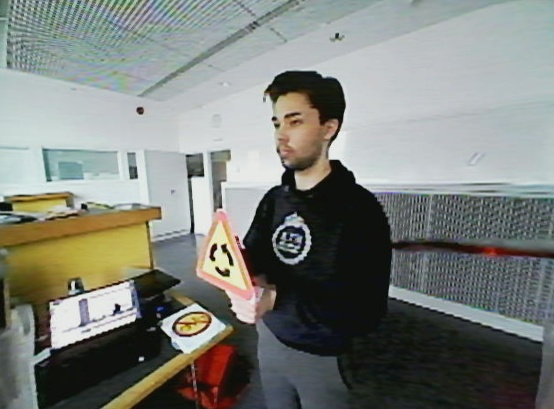roundabout_warning: (195, 210, 259, 303)
